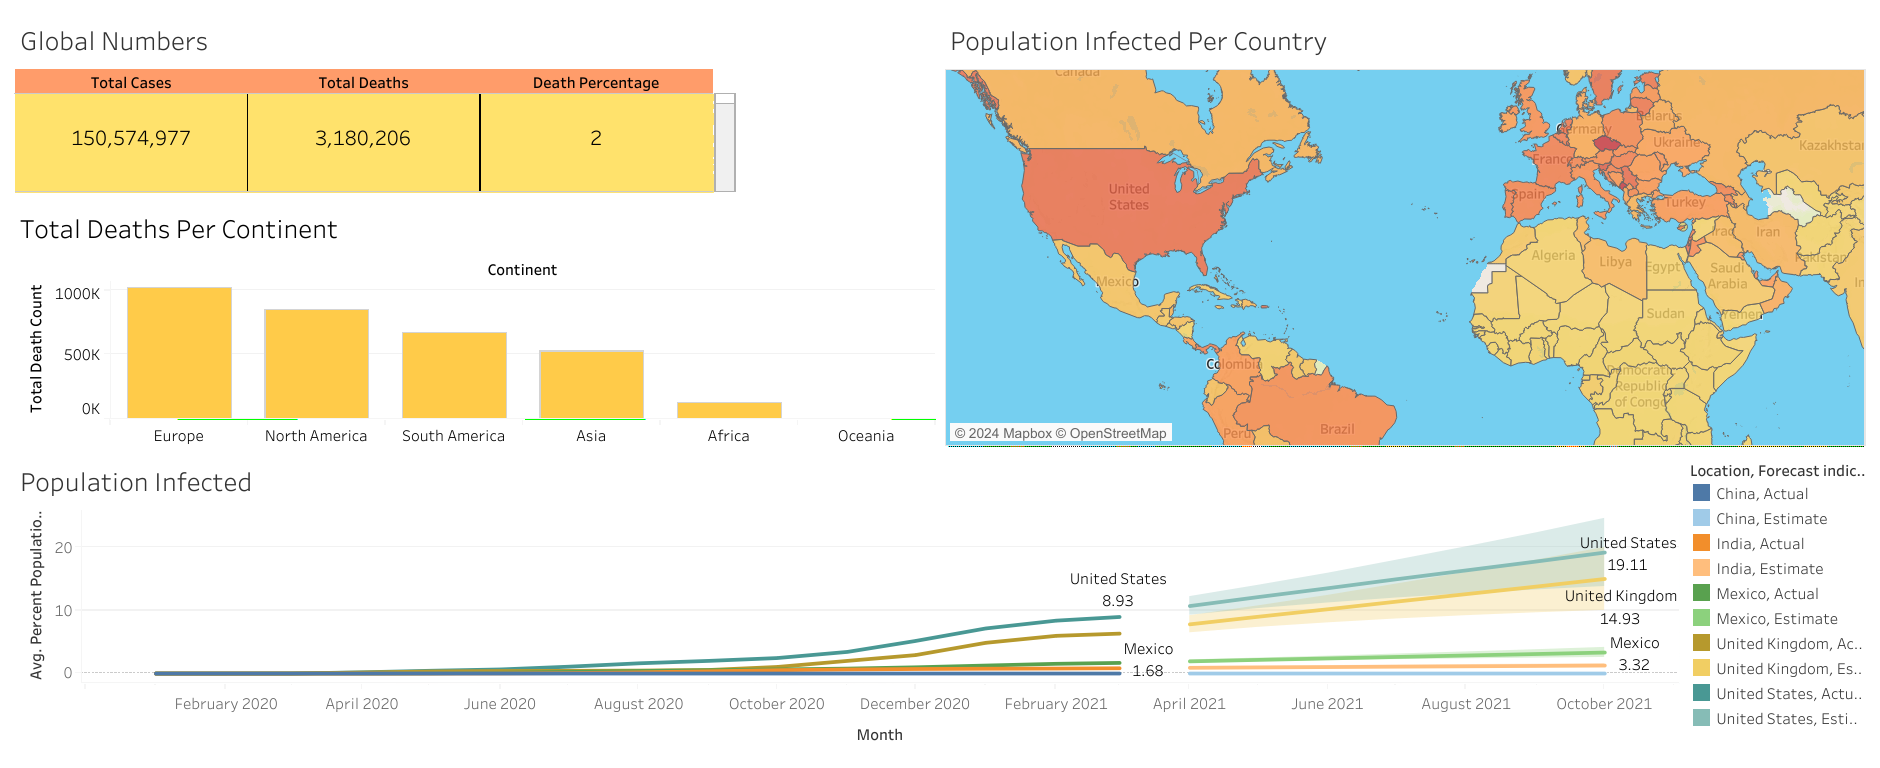

The page's visual inventory and layout, read from the dashboard file:
{"tool":"tableau","page":{"name":"Dashboard 1","canvas":[1000,1000],"units":"permille","ordinal":0},"visuals":[{"type":"worksheet","title":"Sheet 1","mark":"Automatic","box":[4.8,9.4,495.2,245.3]},{"type":"worksheet","title":"Sheet 3","mark":"Automatic","box":[500,9.4,495.2,578.3]},{"type":"worksheet","title":"Sheet 2","mark":"Automatic","rows":["TotalDeathCount"],"cols":["location"],"box":[4.8,254.7,495.2,333]},{"type":"worksheet","title":"Sheet 4","mark":"Automatic","rows":["PercentPopulationInfected"],"cols":["date"],"box":[4.8,587.7,890.5,402.9]},{"type":"legend","title":"Sheet 4","param":"[federated.0fv2uox0hbhi61182v4641vh426j].[none:Location:nk]\n[federated.0fv2uox0h","box":[895.3,587.7,99.9,402.9]}]}

Visuals, with their boxes on the dashboard's canvas, which has no fixed pixel size, in thousandths of its width and height (x1, y1, x2, y2). These are canvas units, not pixel positions in the 1880x768 screenshot, which may show the page scaled, cropped or inside an application window:
"Sheet 1" worksheet: 5, 9, 500, 255
"Sheet 3" worksheet: 500, 9, 995, 588
"Sheet 2" worksheet: 5, 255, 500, 588
"Sheet 4" worksheet: 5, 588, 895, 991
"Sheet 4" legend: 895, 588, 995, 991
